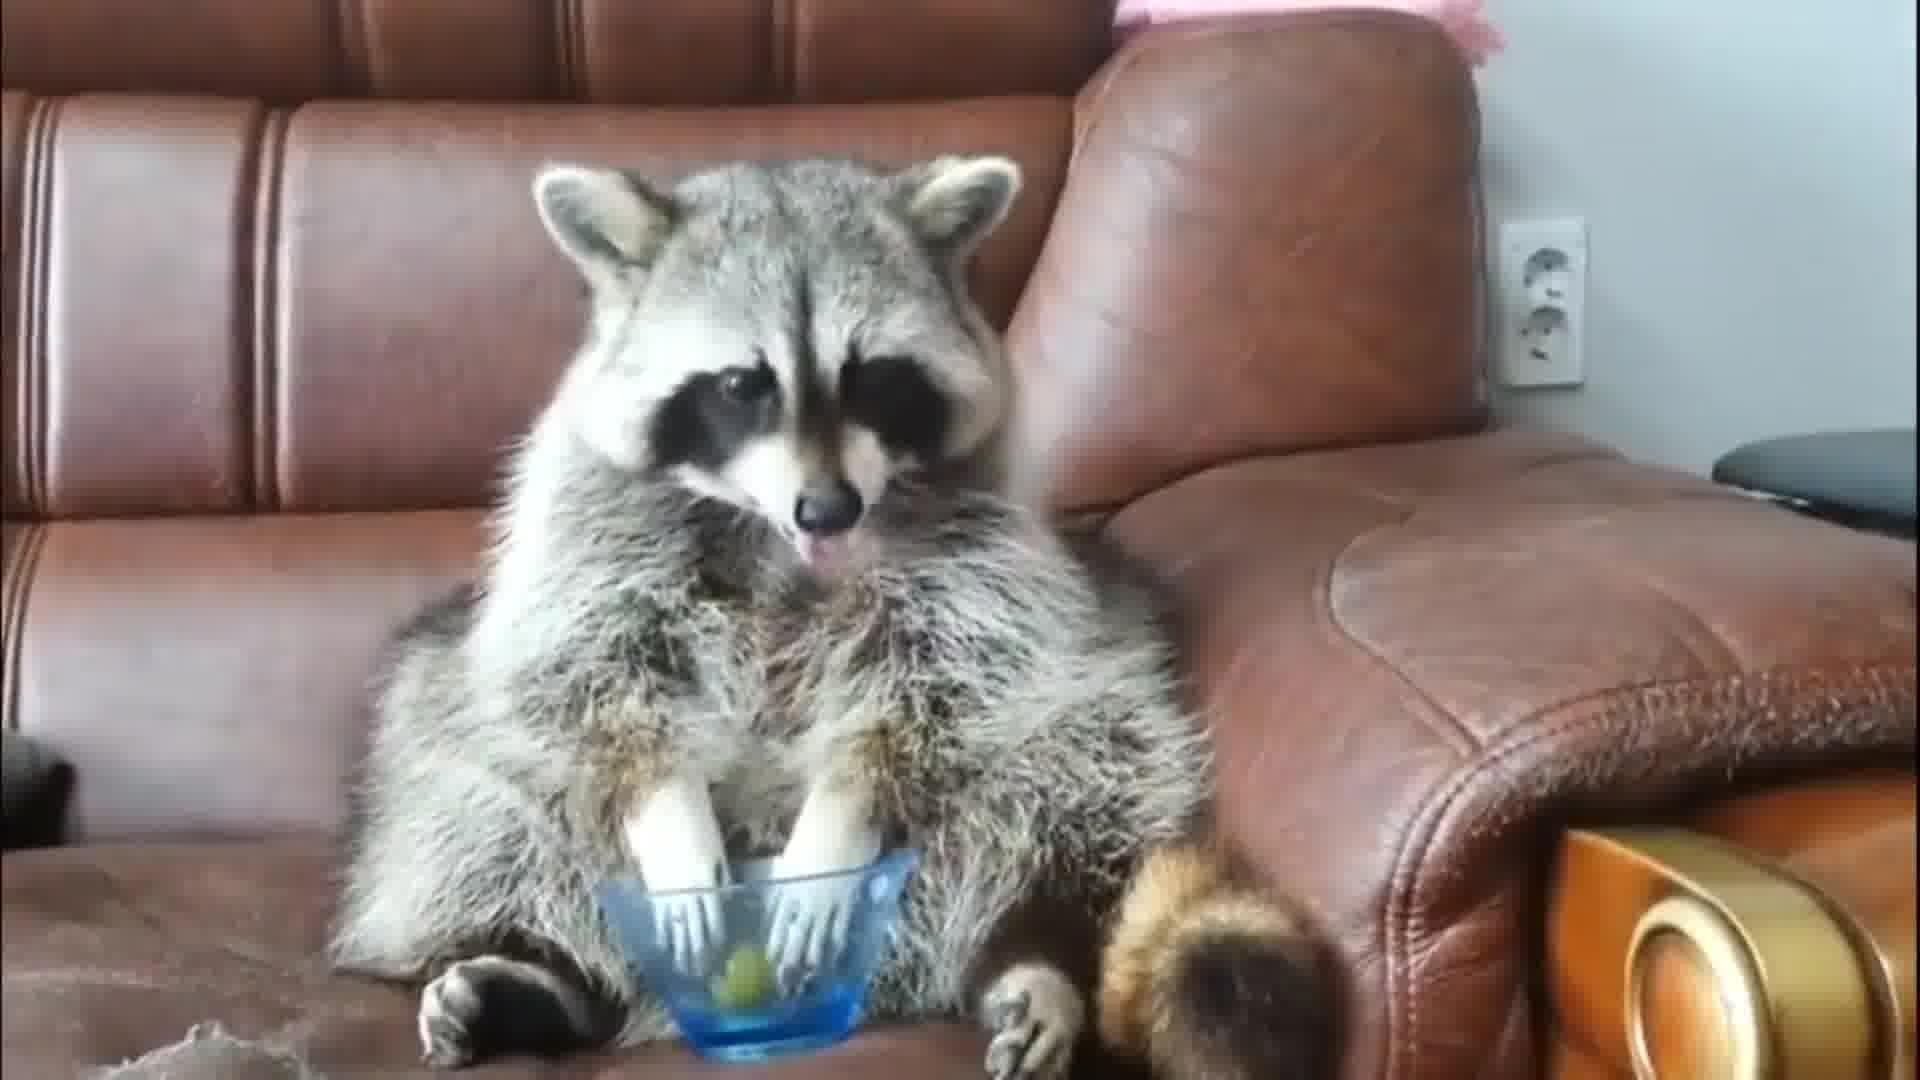raccoon: (315, 140, 1367, 1080)
